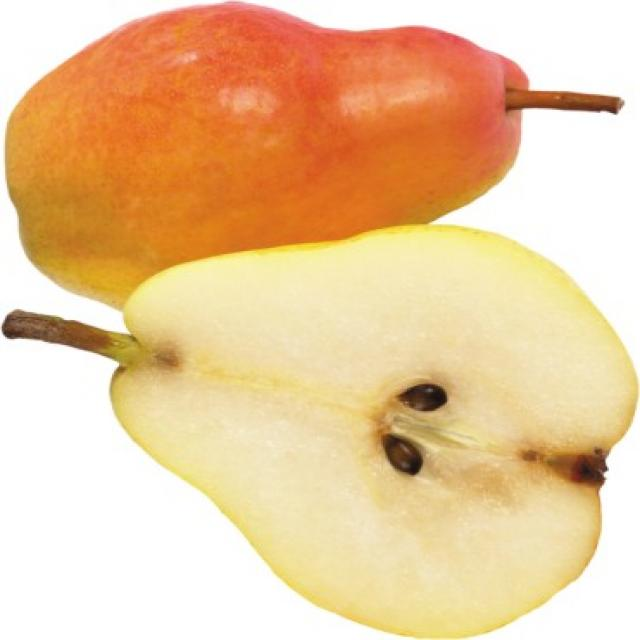pear: (1, 219, 640, 640), (2, 5, 633, 293)
